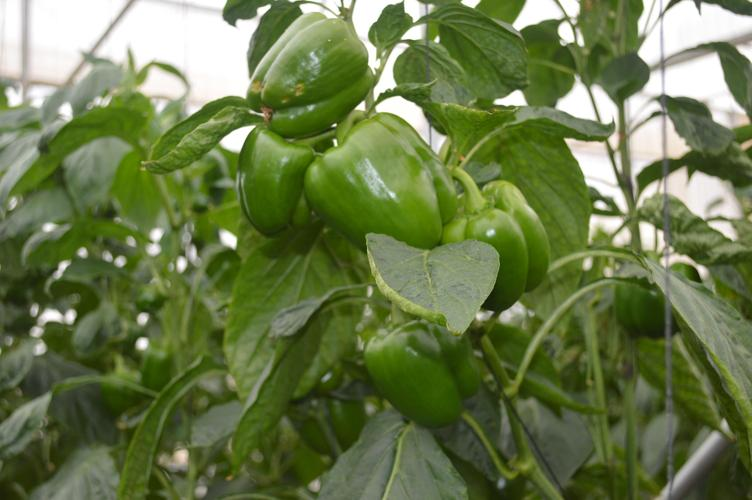BellPepper: (304, 113, 454, 255), (241, 13, 374, 136), (437, 178, 553, 315), (360, 322, 482, 425), (235, 125, 313, 238), (610, 262, 703, 348)
